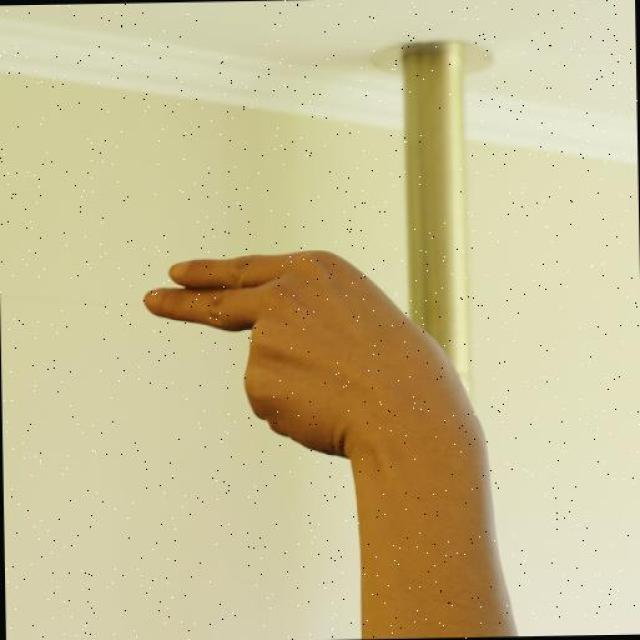H: (135, 238, 482, 480)
